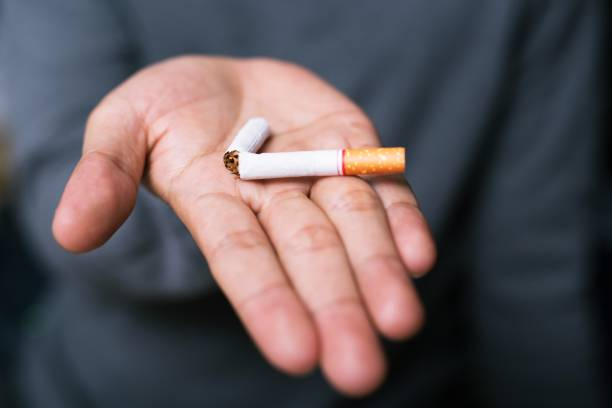cigarette: (237, 146, 408, 181), (221, 116, 271, 179)
